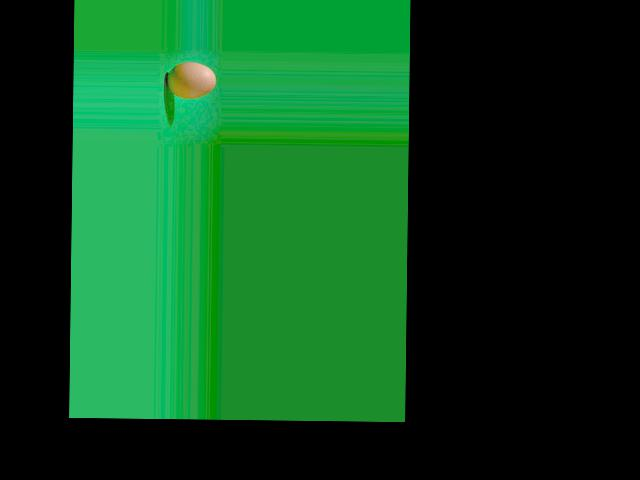egg: (166, 62, 215, 99)
